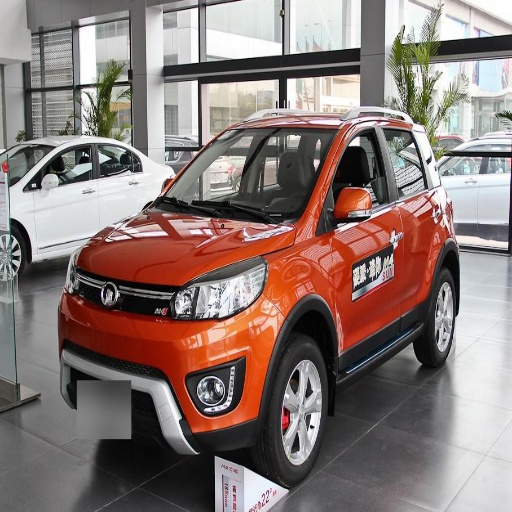back_left_door: (382, 121, 433, 313)
front_bumper: (58, 272, 284, 454)
front_glass: (145, 131, 337, 219)
front_left_door: (323, 123, 401, 353), (31, 145, 95, 192)
